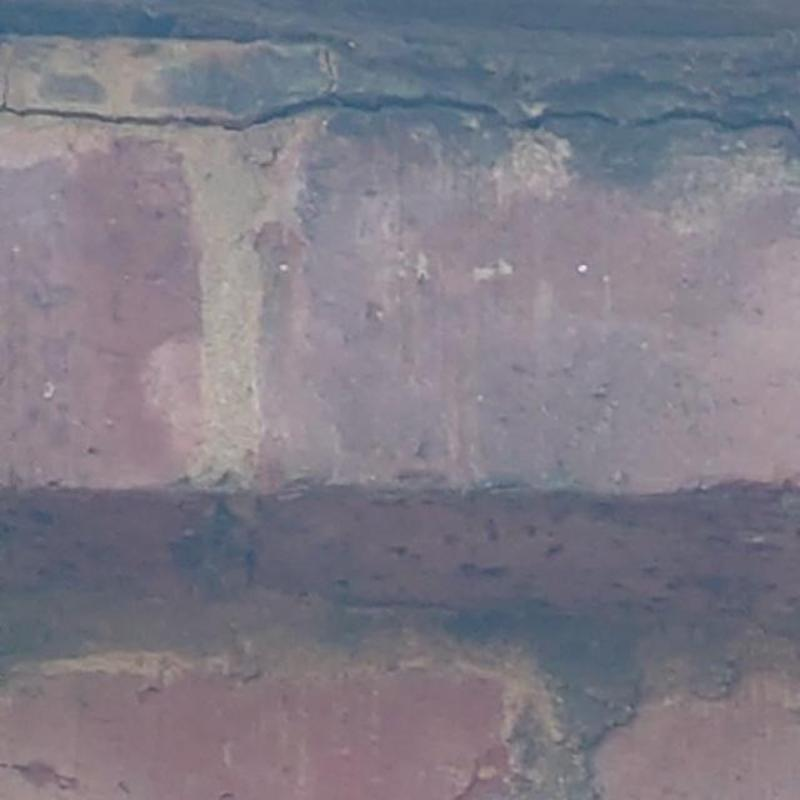pothole: (0, 45, 800, 137)
